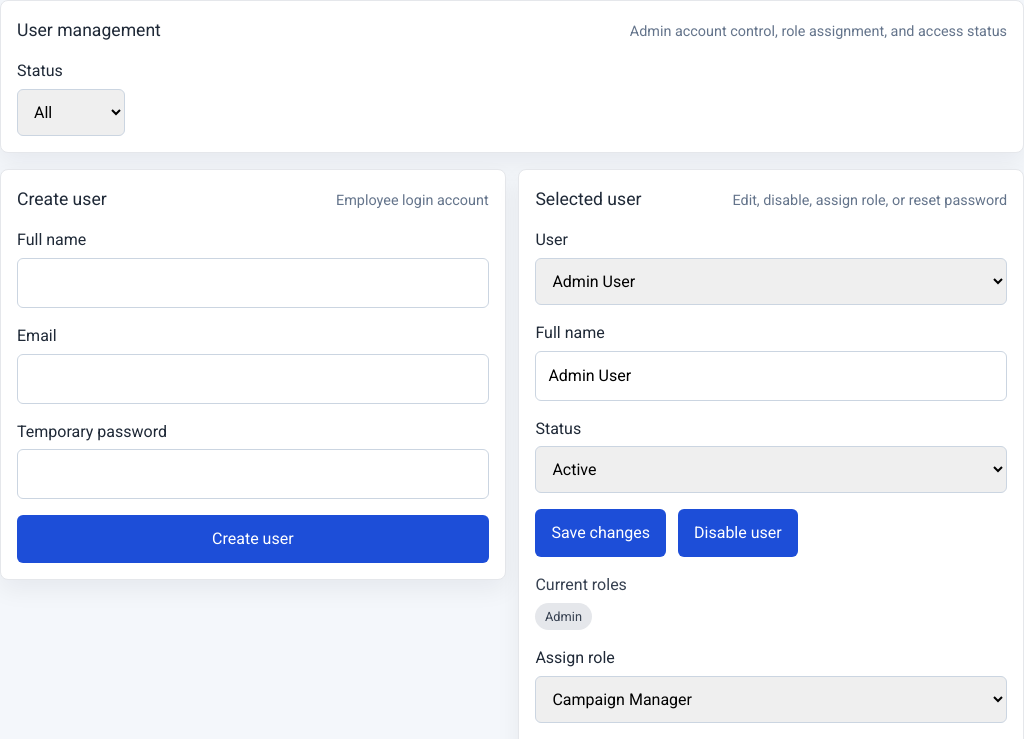
Test case: UsersPage › creates a user through the admin endpoint
The width and height of the screenshot is (1024, 739).
Expected: the element "Create user" is shown, x1=0 y1=169 x2=506 y2=580
Step 1. Type "New Analyst" into the field labelled "Full name" below "Employee login account" → (253, 283), box x1=17 y1=258 x2=489 y2=308
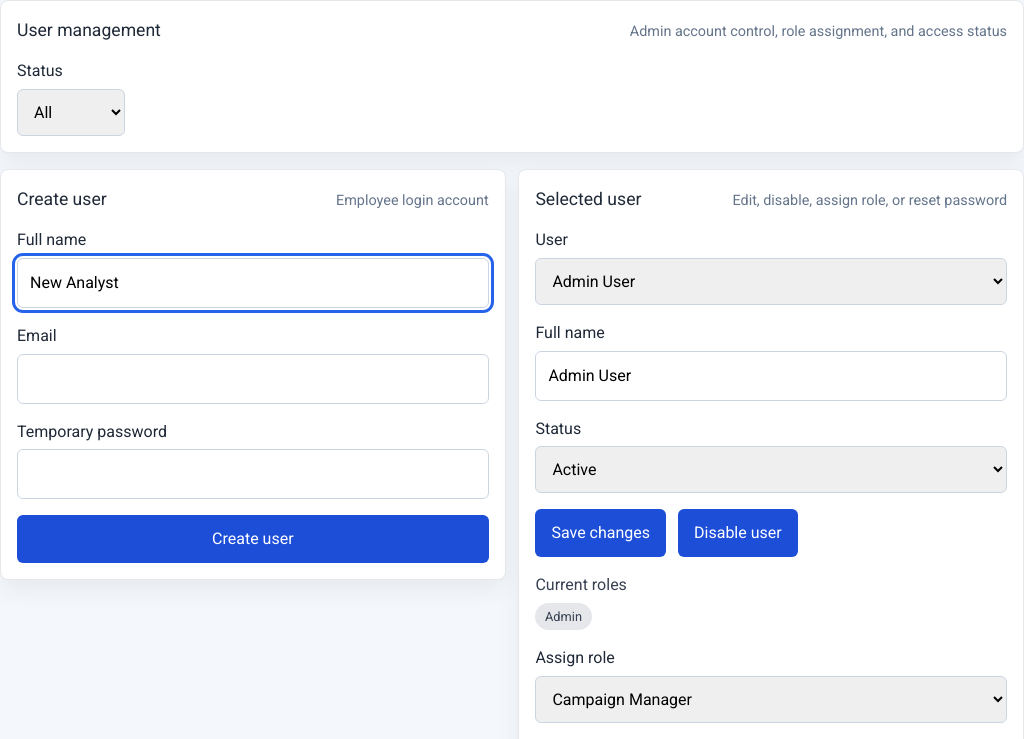
Step 2. Type "new.analyst@bayer-westphalian.test" into the field labelled "Email" → (253, 379), box x1=17 y1=354 x2=489 y2=404
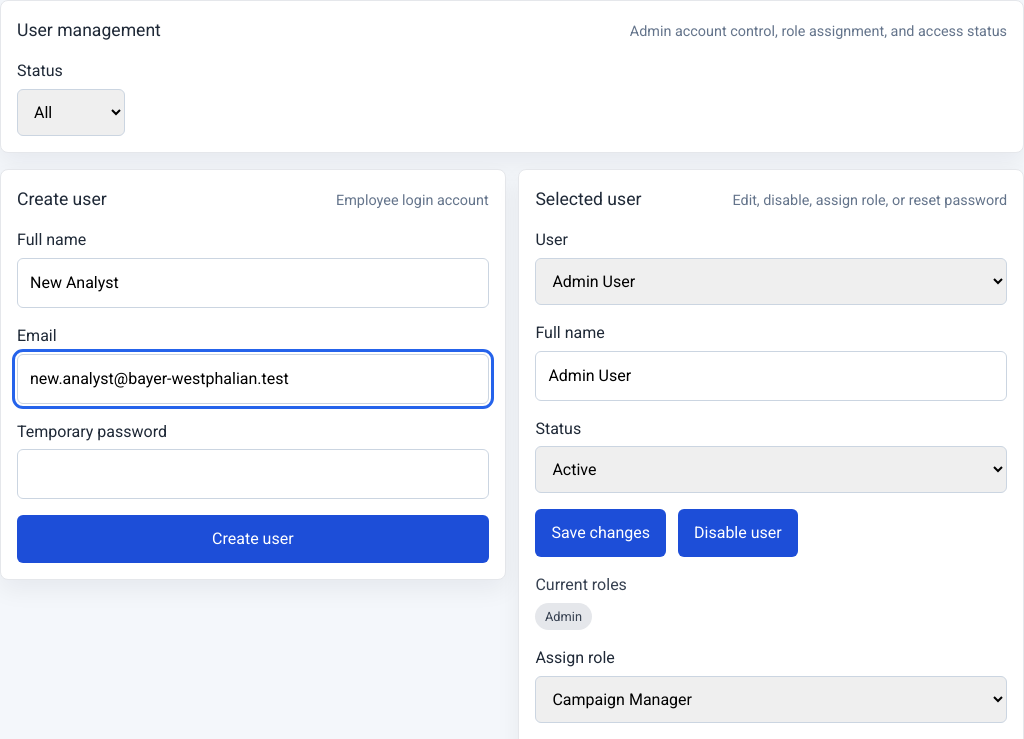
Step 3. Type "StrongPass!2026" into the password field labelled "Temporary password" → (253, 474), box x1=17 y1=449 x2=489 y2=499
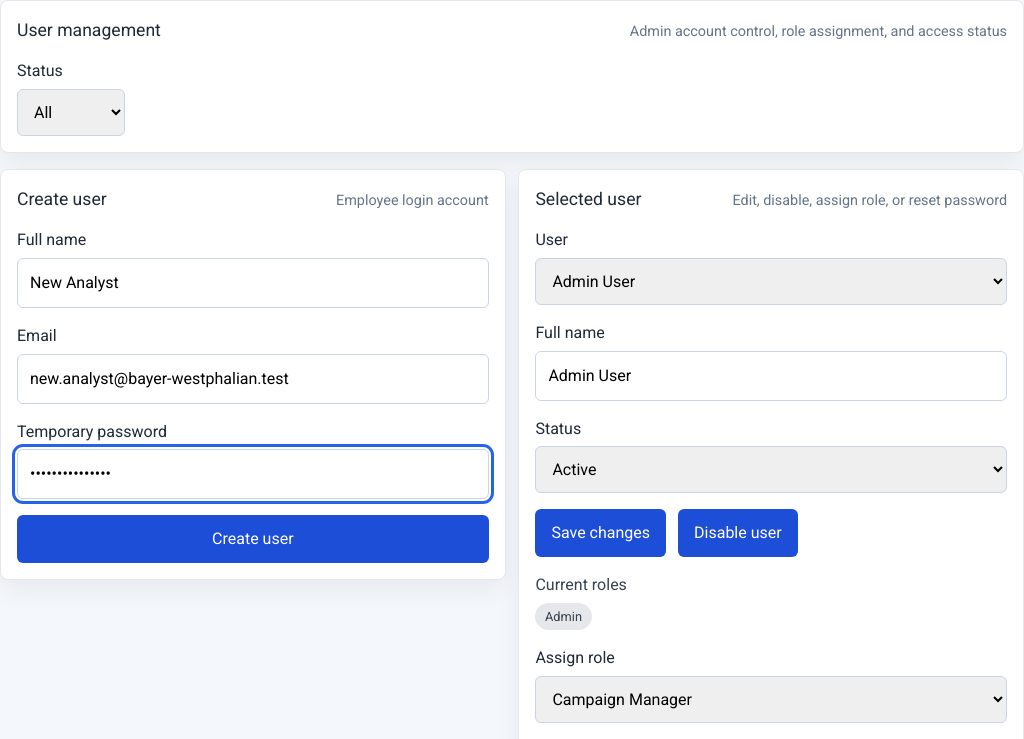
Step 4. Click the button "Create user" → (253, 539), box x1=17 y1=515 x2=489 y2=563
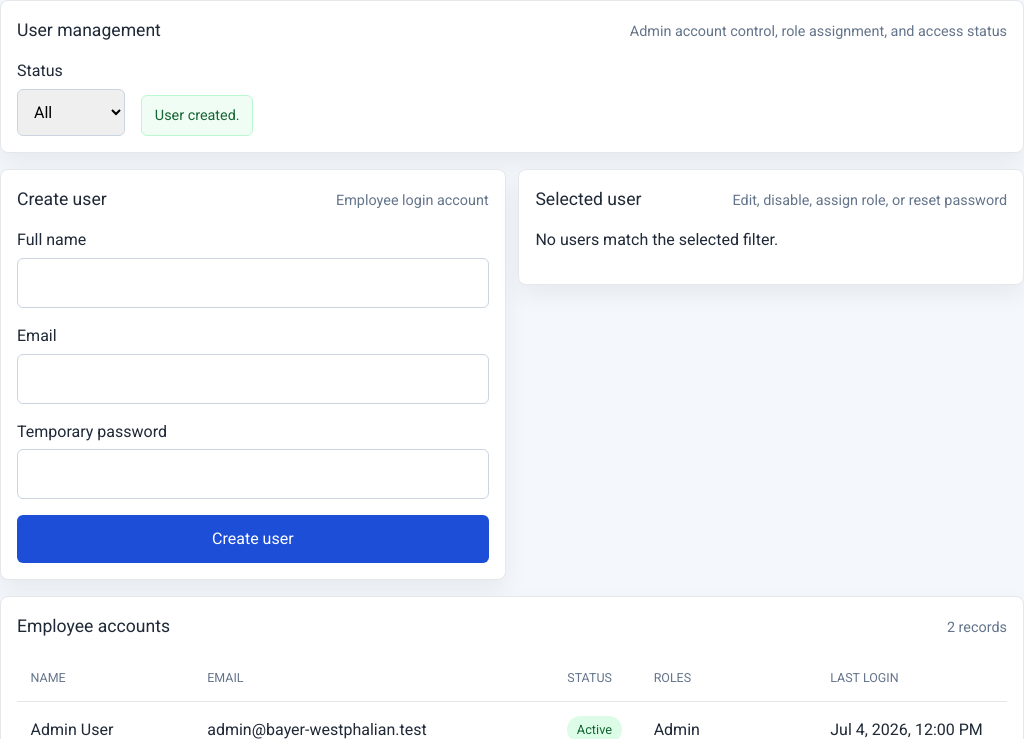
Expected: the message reads "User created.", x1=155 y1=107 x2=240 y2=124
